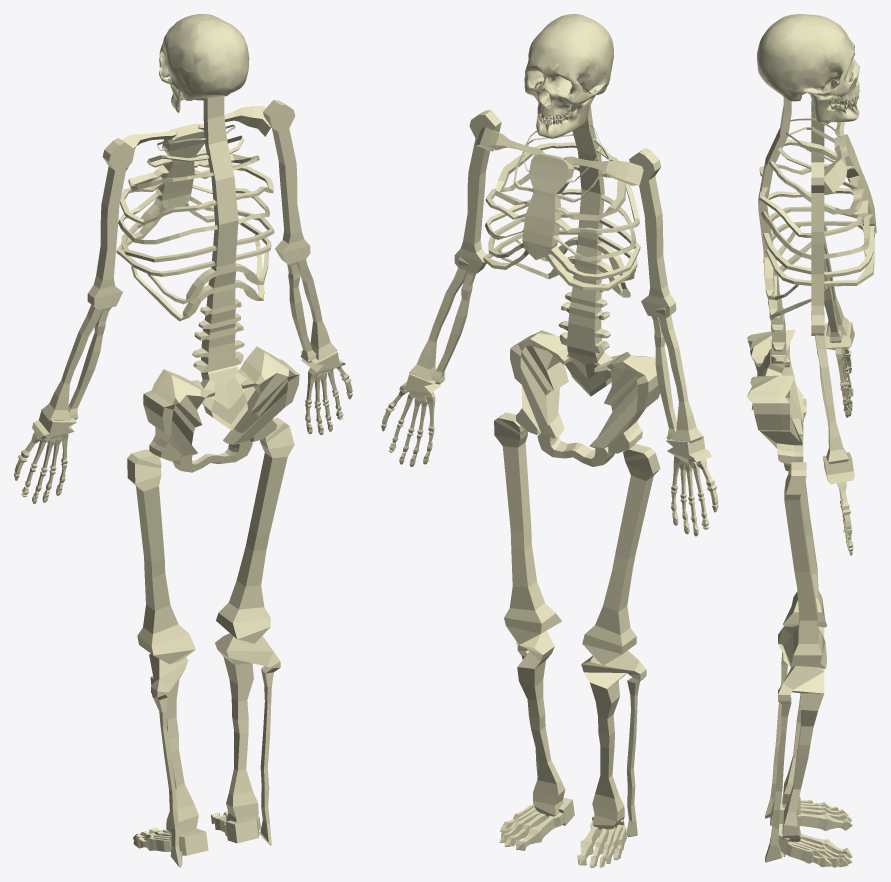
Rendered from skeleton.fbx.
3 views of the same model, side by side, from view 1: azimuth 30°, elevation 25°; view 2: azimuth 150°, elevation 25°; view 3: azimuth 270°, elevation 25° (orthographic).
Visible parts, largest first — view 1: Oberschenkel, Wirbelsäule, Schienbein, Cube, Hüfte, Oberarm, lowpoly+skull, Unterarm, Mittelfuß, Schlüsselbein, Hand, Kleinerfinger (+3 smaller); view 2: Oberschenkel, Cube, Hüfte, Schienbein, Wirbelsäule, lowpoly+skull, Oberarm, Unterarm, Schlüsselbein, Hand, Zeh0, Kleinerfinger (+5 smaller); view 3: lowpoly+skull, Cube, Schienbein, Oberschenkel, Hüfte, Wirbelsäule, Oberarm, Unterarm, Hand, Zeh0, Schlüsselbein, Zeh4 (+6 smaller).
Boxes of the visible parts, x1,y1,x2,y2 form: Oberschenkel: (127, 417, 294, 664); Wirbelsäule: (131, 96, 268, 430); Schienbein: (149, 633, 280, 867); Cube: (116, 123, 274, 276); Hüfte: (143, 346, 299, 472); Oberarm: (87, 100, 310, 309); lowpoly+skull: (159, 14, 249, 112); Unterarm: (42, 251, 336, 421); Mittelfuß: (169, 817, 259, 855); Schlüsselbein: (122, 106, 270, 170); Hand: (32, 350, 345, 439); Kleinerfinger: (56, 367, 317, 495); Oberschenkel: (494, 412, 660, 665); Cube: (483, 125, 640, 290); Hüfte: (510, 330, 660, 466); Schienbein: (516, 630, 646, 837); Wirbelsäule: (499, 89, 636, 396); lowpoly+skull: (524, 14, 613, 138); Oberarm: (454, 110, 676, 318); Unterarm: (409, 256, 702, 443); Schlüsselbein: (475, 127, 643, 185); Hand: (399, 373, 711, 463); Zeh0: (516, 812, 601, 865); Kleinerfinger: (423, 392, 680, 525); lowpoly+skull: (757, 14, 859, 122); Cube: (759, 118, 876, 286); Schienbein: (765, 625, 824, 862); Oberschenkel: (782, 398, 826, 668); Hüfte: (747, 330, 803, 470); Wirbelsäule: (751, 97, 827, 409); Oberarm: (811, 99, 824, 335); Unterarm: (815, 236, 848, 464); Hand: (822, 322, 854, 484); Zeh0: (798, 813, 852, 858); Schlüsselbein: (813, 111, 847, 193); Zeh4: (784, 799, 832, 867).
Bounding box in the file's own units: 151 × 354 × 50.44.
